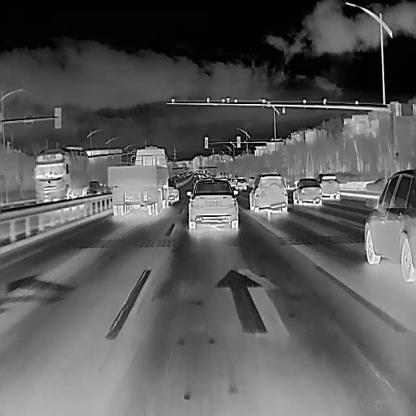car: (363, 168, 415, 283), (106, 147, 168, 215), (31, 145, 89, 205), (185, 179, 239, 233), (246, 173, 288, 215), (291, 176, 323, 207), (315, 172, 340, 201), (165, 176, 179, 203), (228, 176, 247, 190), (87, 179, 100, 193), (229, 175, 238, 186)
